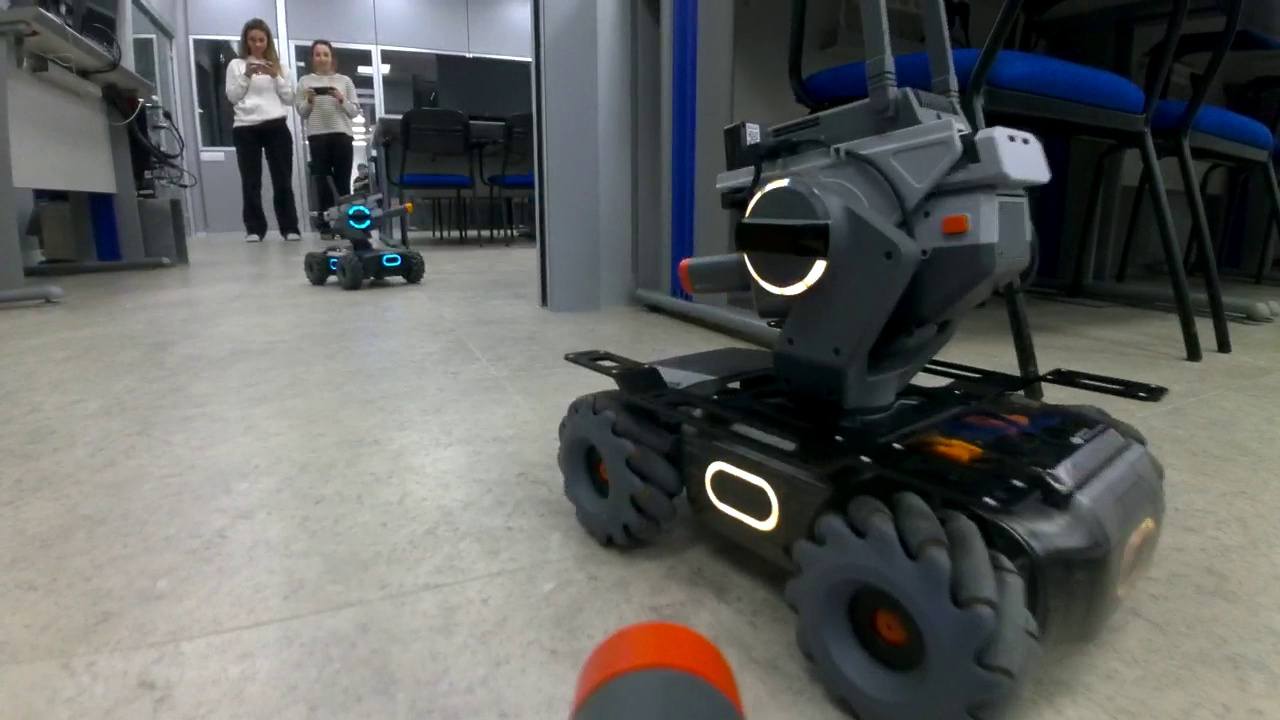robot: (555, 82, 1171, 719), (302, 193, 427, 293)
